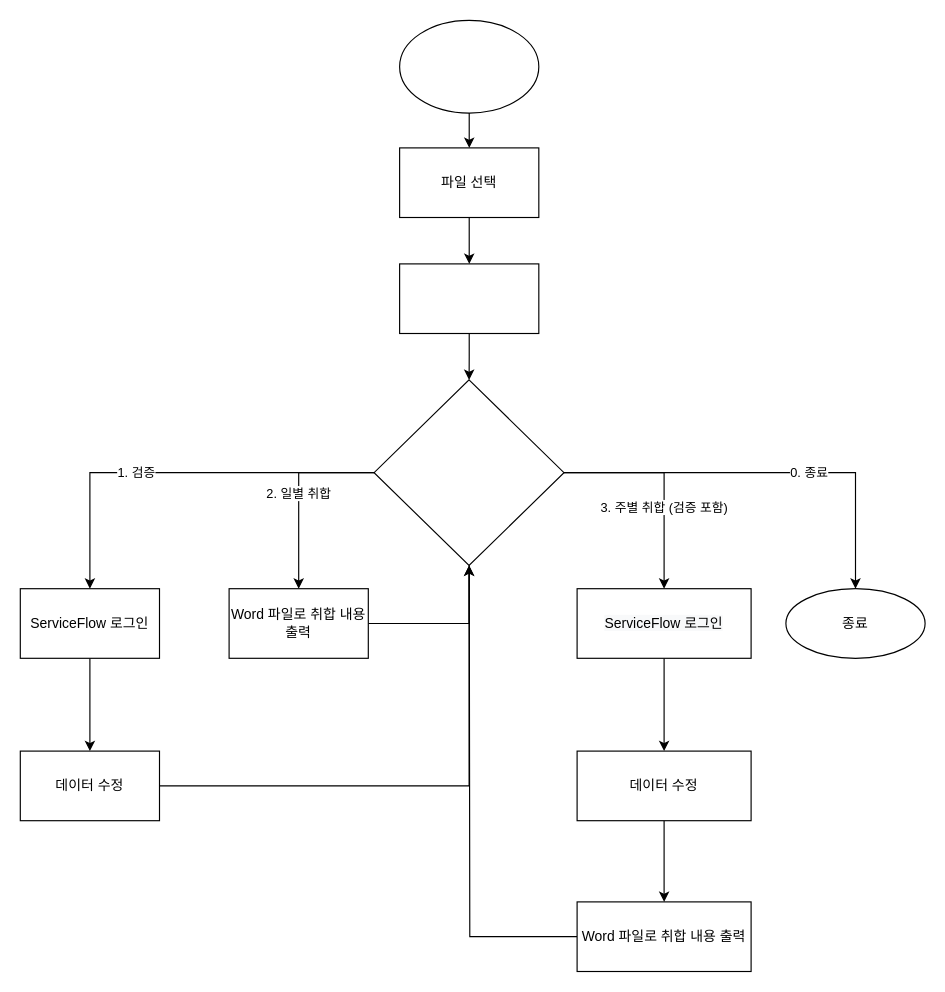
Image size: 945x992. Some labels were removed from this diagram. Here are the shapes that lost their labels. From the top down, the centre of each, then its label:
At point (468, 66): "프로그램 실행".
At point (468, 298): "SOR_ID 확인".
At point (468, 472): "작업 선택 1. 검증 2. 일별 취합 3. 주별 취합 (검증 포함) 0. 종료".
